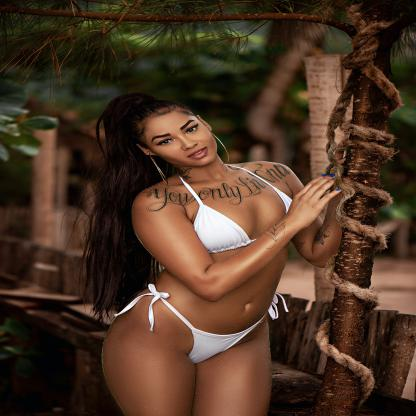Eye: (184, 124, 202, 135), (155, 138, 176, 147)
Mouth: (187, 148, 209, 160)
Nose: (178, 136, 199, 150)
